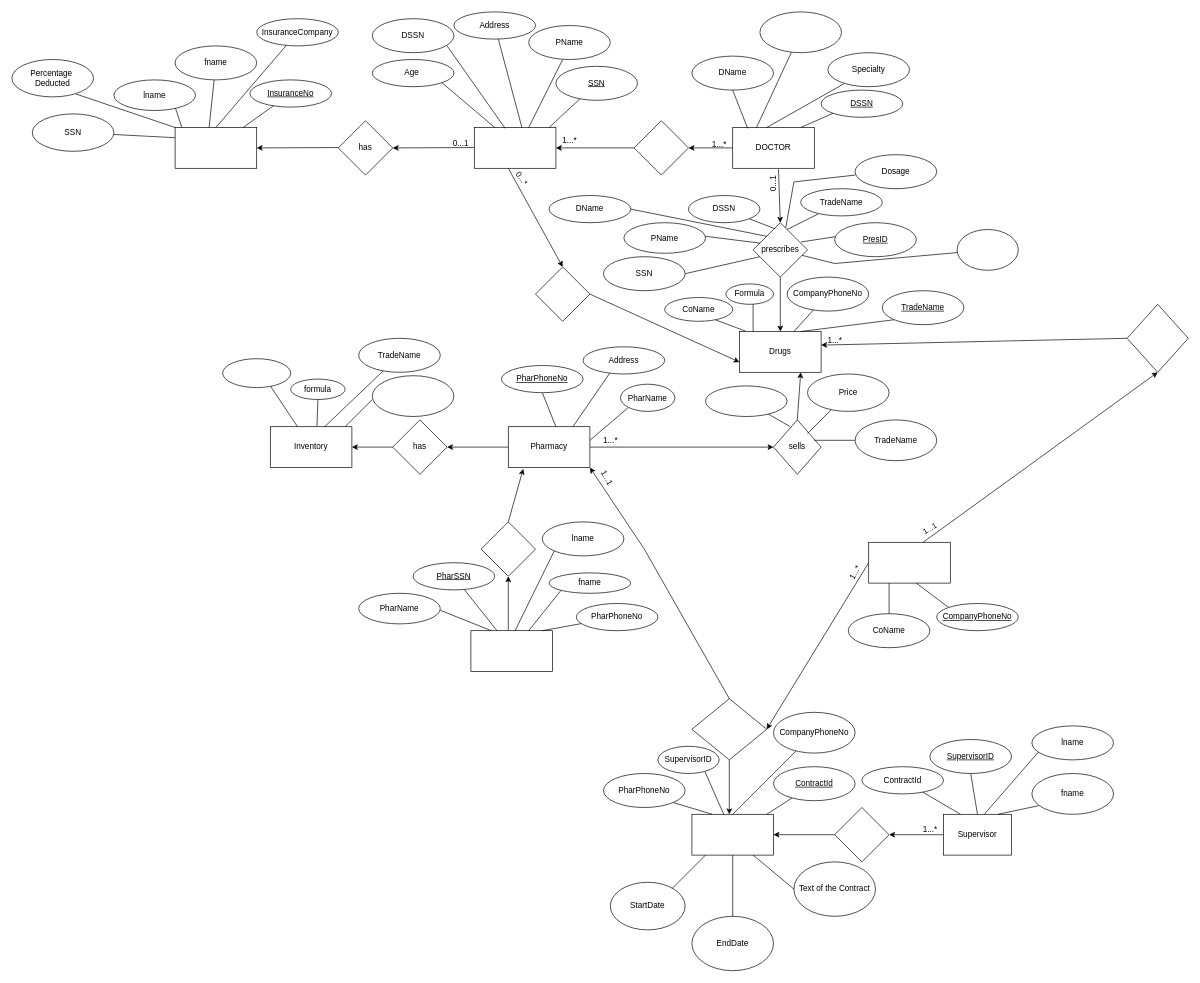
The diagram is 1200 pixels wide and 983 high, and some of its shapes have lost their labels. The centre of each missing label's shape, as x and y in pixels:
"buys" goes at (x=562, y=293).
"Contract" goes at (x=732, y=834).
"Date" goes at (x=987, y=249).
"has a" goes at (x=729, y=729).
"Insurance" goes at (x=215, y=147).
"InventoryID" goes at (x=413, y=396).
"Manufactures" goes at (x=1157, y=338).
"PATIENT" goes at (x=515, y=147).
"Pharmaceutical Company" goes at (x=909, y=562).
"Pharmacist" goes at (x=511, y=651).
"Quantity" goes at (x=256, y=373).
"SaleID" goes at (x=746, y=401).
"supervises" goes at (x=861, y=834).
"treats" goes at (x=660, y=147).
"Works In" goes at (x=508, y=548).
"Years of Experience" goes at (x=800, y=32).
